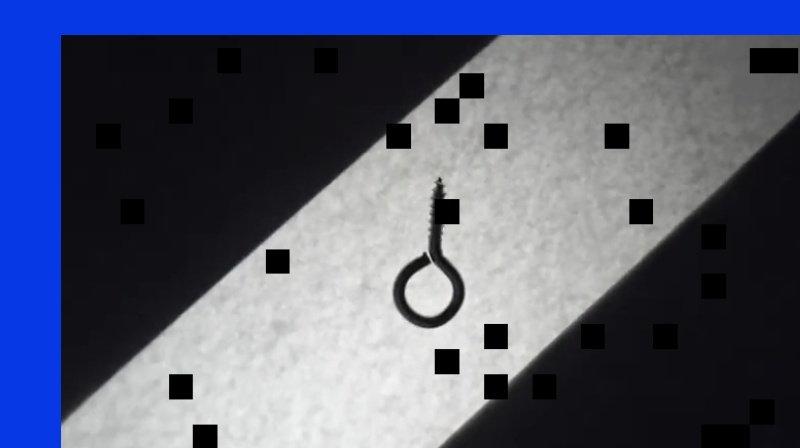O001: (387, 171, 464, 328)
